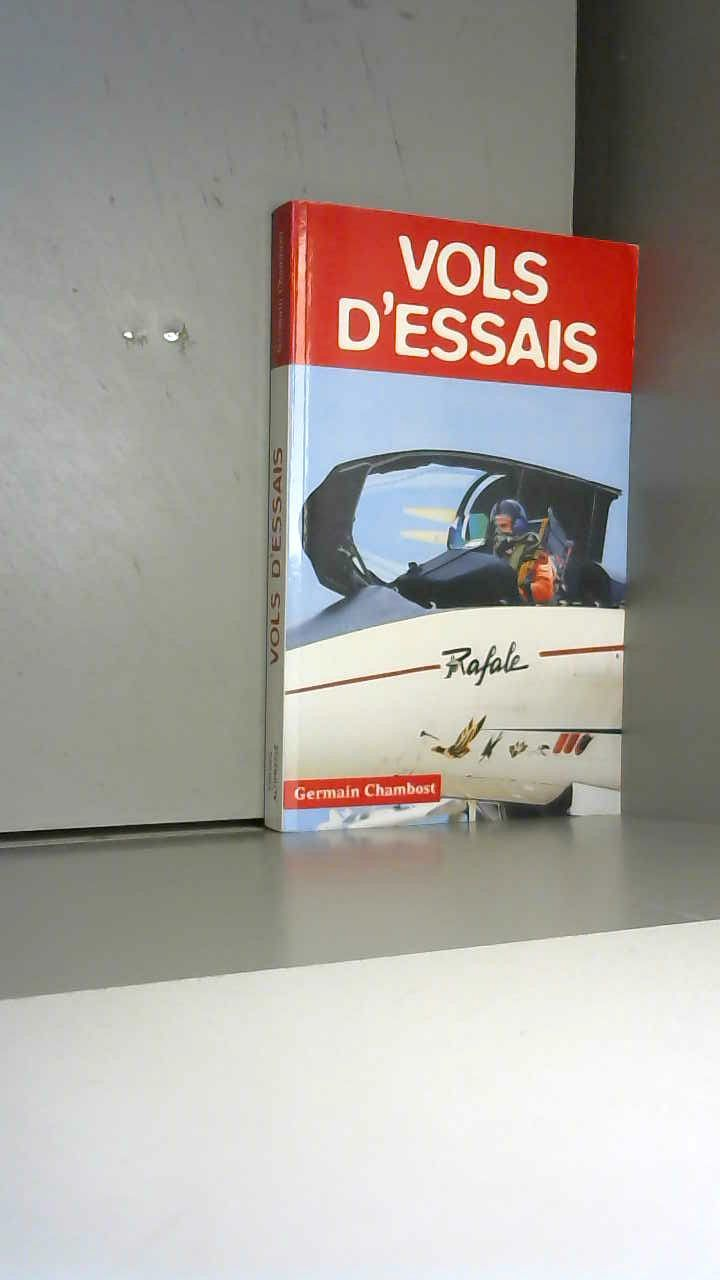book: (240, 170, 718, 863)
